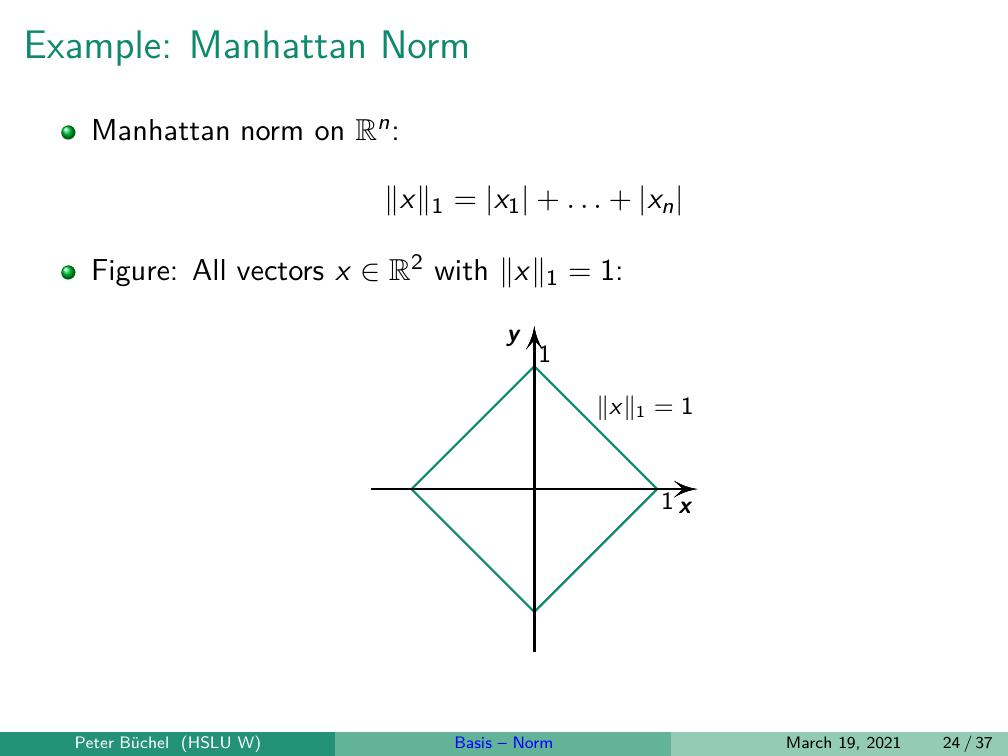Title: (17, 18, 480, 73)
